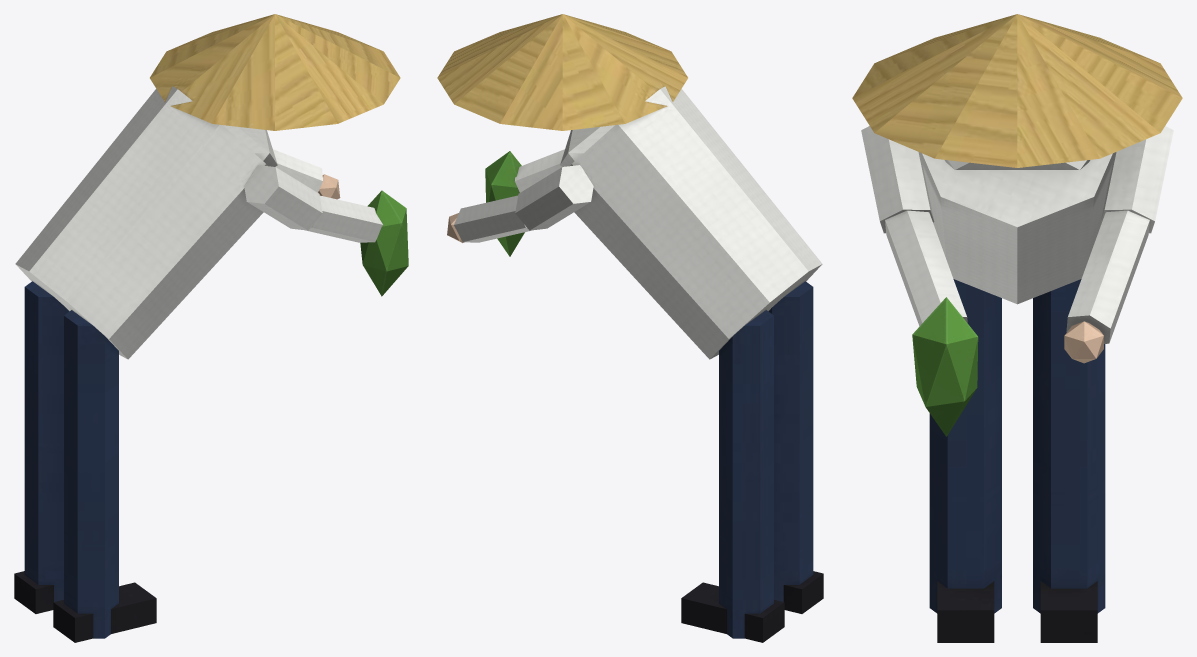
Rendered from risbonde_tex.glb.
The picture shows the model from 3 angles, left to right: view 1: azimuth 30°, elevation 25°; view 2: azimuth 150°, elevation 25°; view 3: azimuth 270°, elevation 25°; orthographic projection. The views are drawn at different scales.
Visible parts, largest first — view 1: risbonde; view 2: risbonde; view 3: risbonde.
Boxes of the visible parts, x1,y1,x2,y2 form: risbonde: (14,14,408,642); risbonde: (437,14,823,642); risbonde: (852,14,1182,642).
Size of the model in its own units: 1.04 by 1.55 by 0.64.
Materials: 7 (7 with a texture image).
